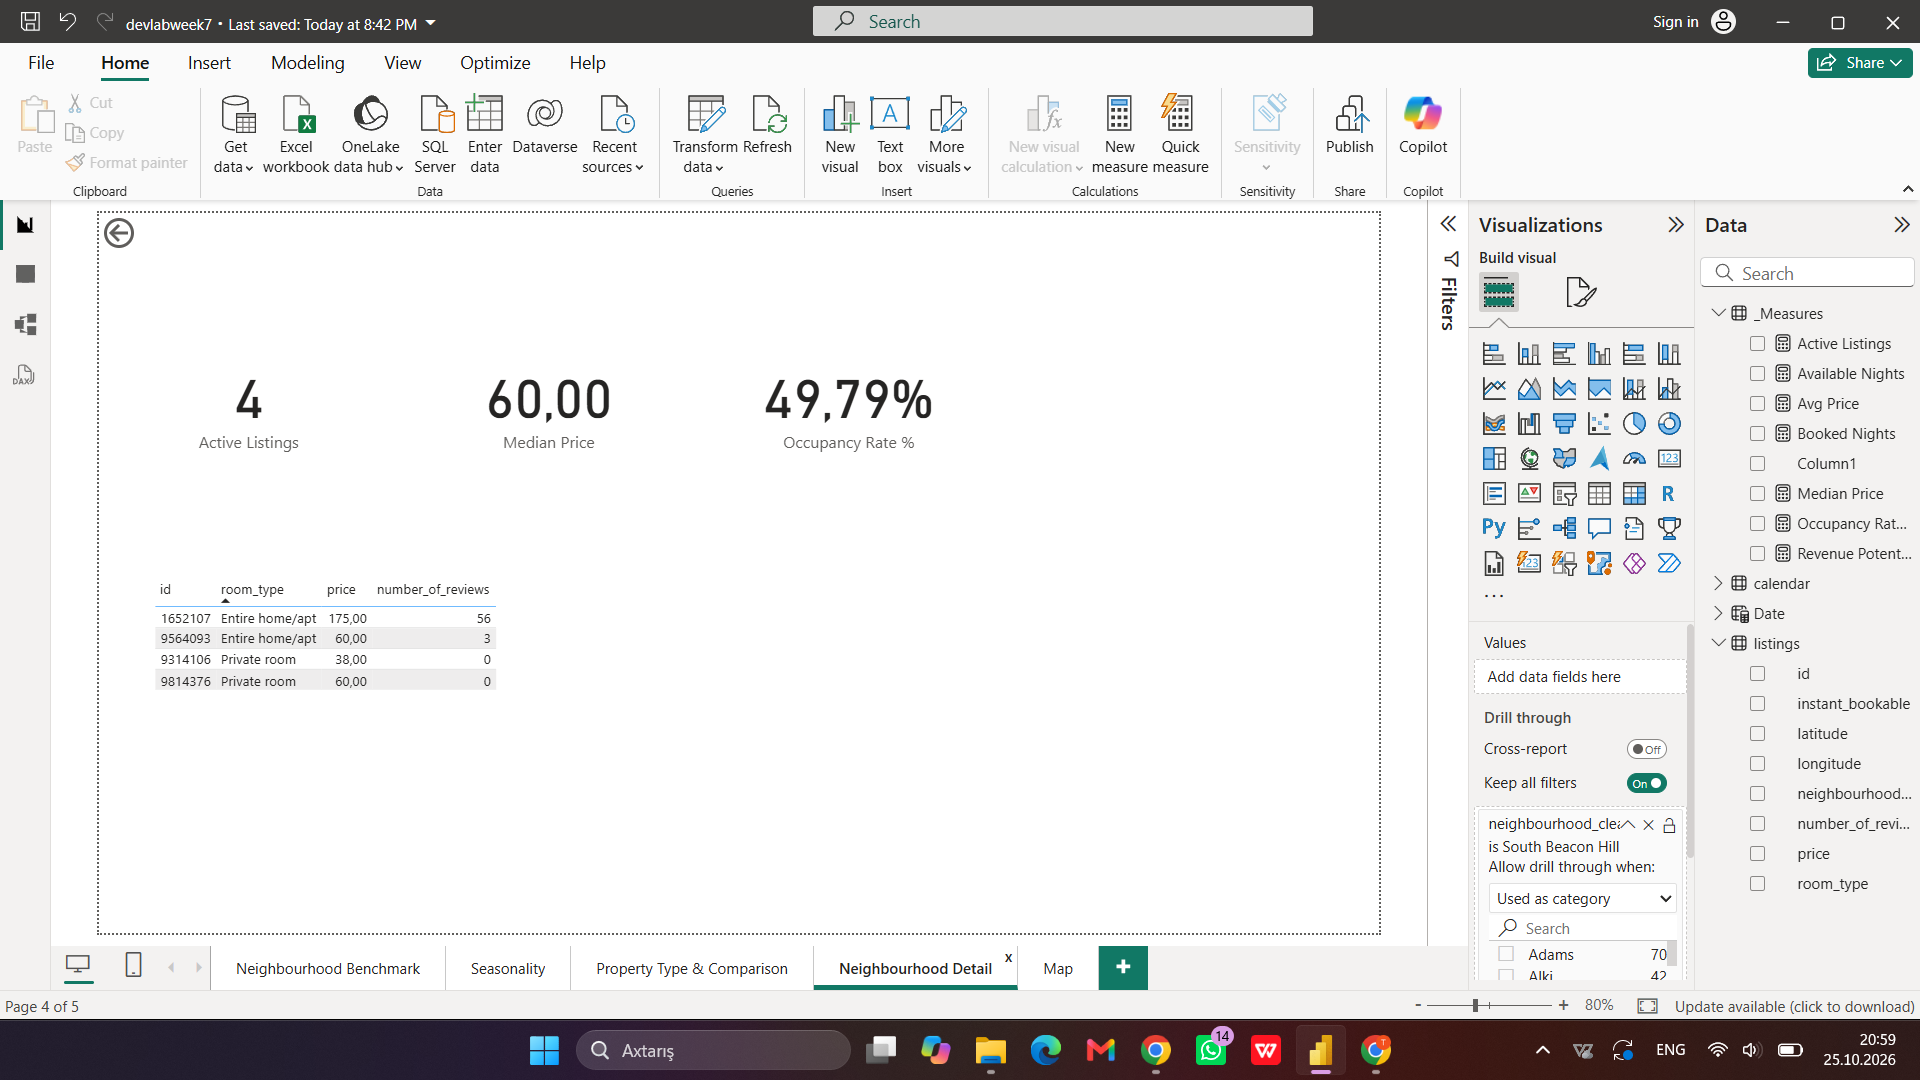

This screenshot's page, from the dashboard's own definition file:
{"tool":"powerbi","page":{"name":"Neighbourhood Detail","canvas":[1280,720],"ordinal":3},"visuals":[{"type":"actionButton","box":[0,0,100,40],"z":0},{"type":"card","fields":{"Values":["_Measures.Active Listings"]},"box":[0,40,300,300],"z":1},{"type":"card","fields":{"Values":["_Measures.Median Price"]},"box":[300,40,300,300],"z":2},{"type":"card","fields":{"Values":["_Measures.Occupancy Rate %"]},"box":[600,40,300,300],"z":3},{"type":"tableEx","fields":{"Values":["listings.id","listings.room_type","listings.price","listings.number_of_reviews"]},"box":[50,360,367.1,300],"z":4}]}

Visuals, with their boxes on the page's 1280x720 design canvas (x1, y1, x2, y2). These are canvas units, not pixel positions in the 1920x1080 screenshot, which may show the page scaled, cropped or inside an application window:
actionButton: (0, 0, 100, 40)
card - _Measures.Active Listings: (0, 40, 300, 340)
card - _Measures.Median Price: (300, 40, 600, 340)
card - _Measures.Occupancy Rate %: (600, 40, 900, 340)
tableEx - listings.id x listings.room_type: (50, 360, 417, 660)
